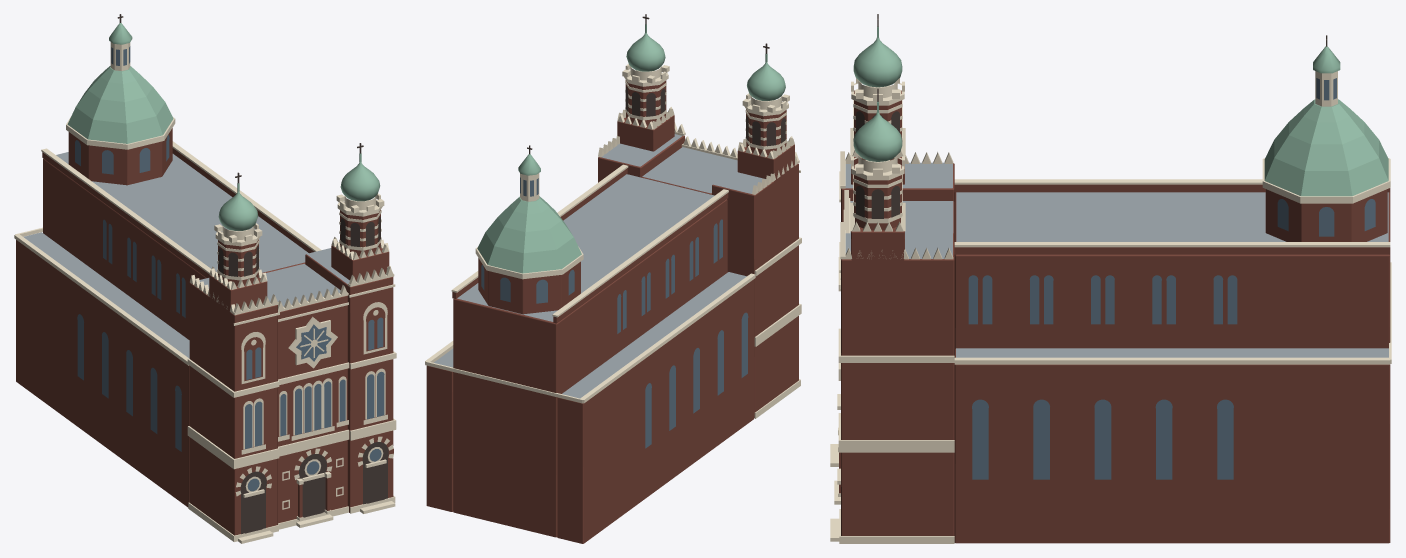
Rendered from nola-jesuit-church.glb.
3 renders of one model, left to right at view 1: azimuth 30°, elevation 25°; view 2: azimuth 150°, elevation 25°; view 3: azimuth 270°, elevation 25°, orthographic. The views are drawn at different scales.
Parts seen in each view (by area): view 1: Church of the Immaculate Conception; view 2: Church of the Immaculate Conception; view 3: Church of the Immaculate Conception.
Boxes of the visible parts, x1,y1,x2,y2 form: Church of the Immaculate Conception: (14, 14, 396, 543); Church of the Immaculate Conception: (425, 14, 801, 543); Church of the Immaculate Conception: (830, 14, 1391, 543).
Bounding box in the file's own units: 20 × 43 × 47.67.
